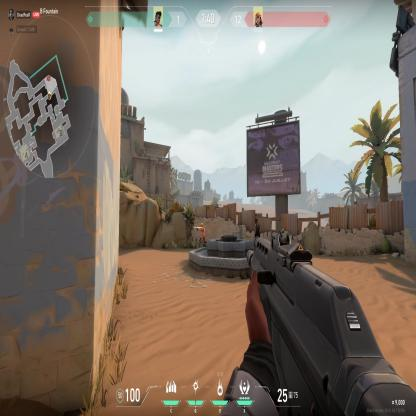enemy: (196, 222, 206, 248)
